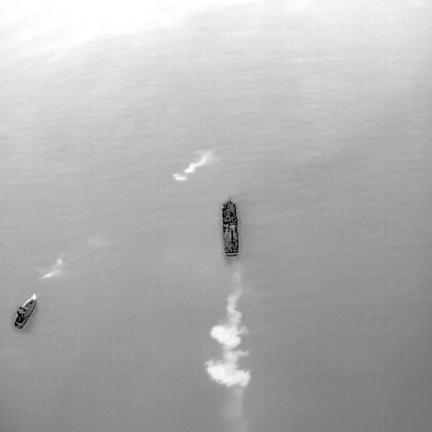flukeprints: (184, 150, 212, 173), (42, 253, 63, 278), (173, 173, 186, 181)
